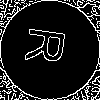R: (25, 25, 75, 68)
